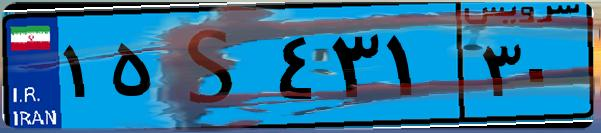0: (525, 38, 570, 115)
1: (385, 28, 445, 110), (57, 26, 110, 100)
3: (330, 28, 385, 110), (475, 38, 525, 113)
4: (270, 28, 330, 110)
5: (110, 28, 158, 98)
S: (158, 12, 270, 120)
